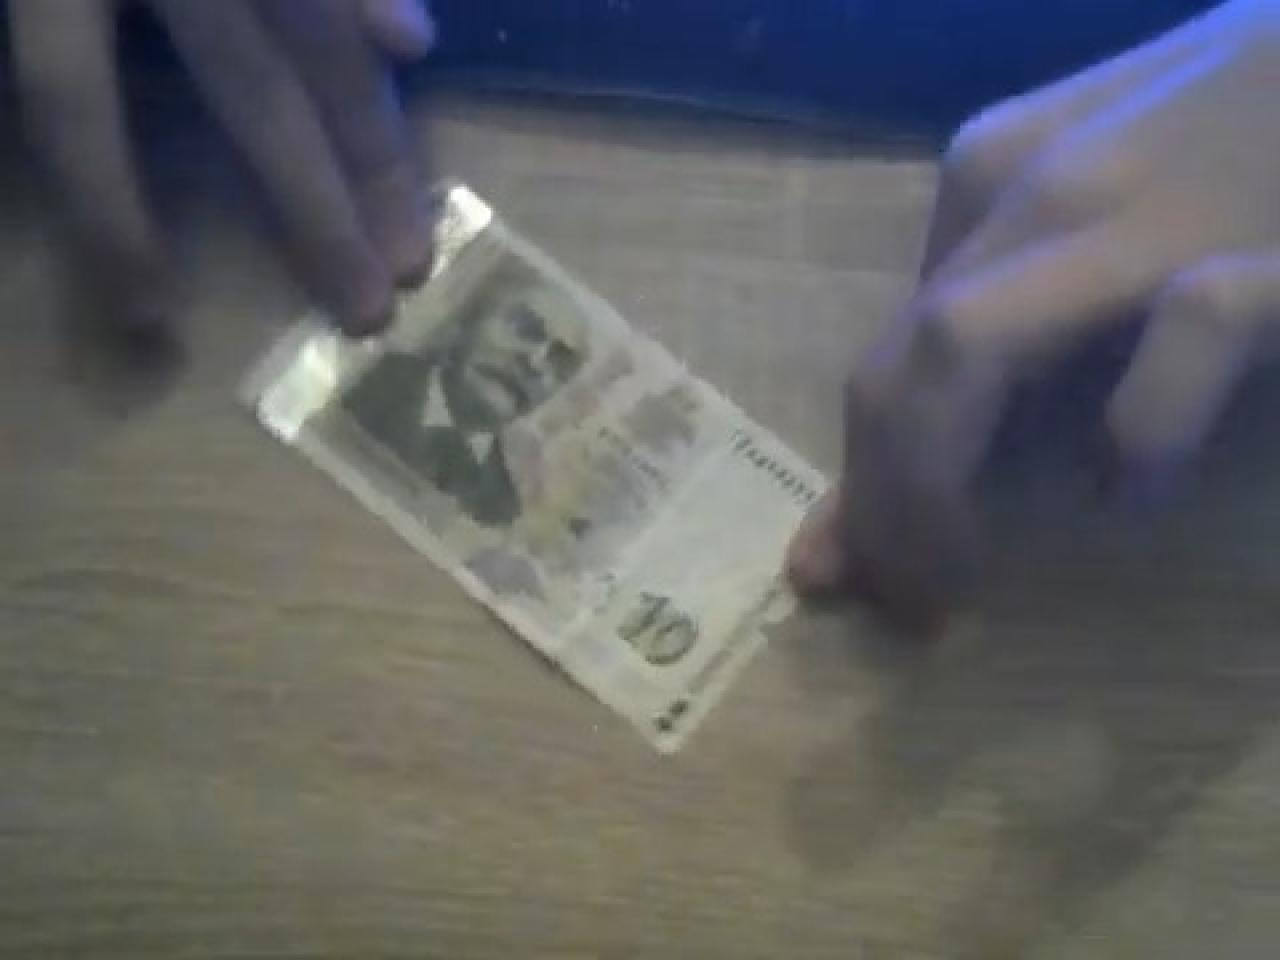10leva: (235, 182, 826, 757)
